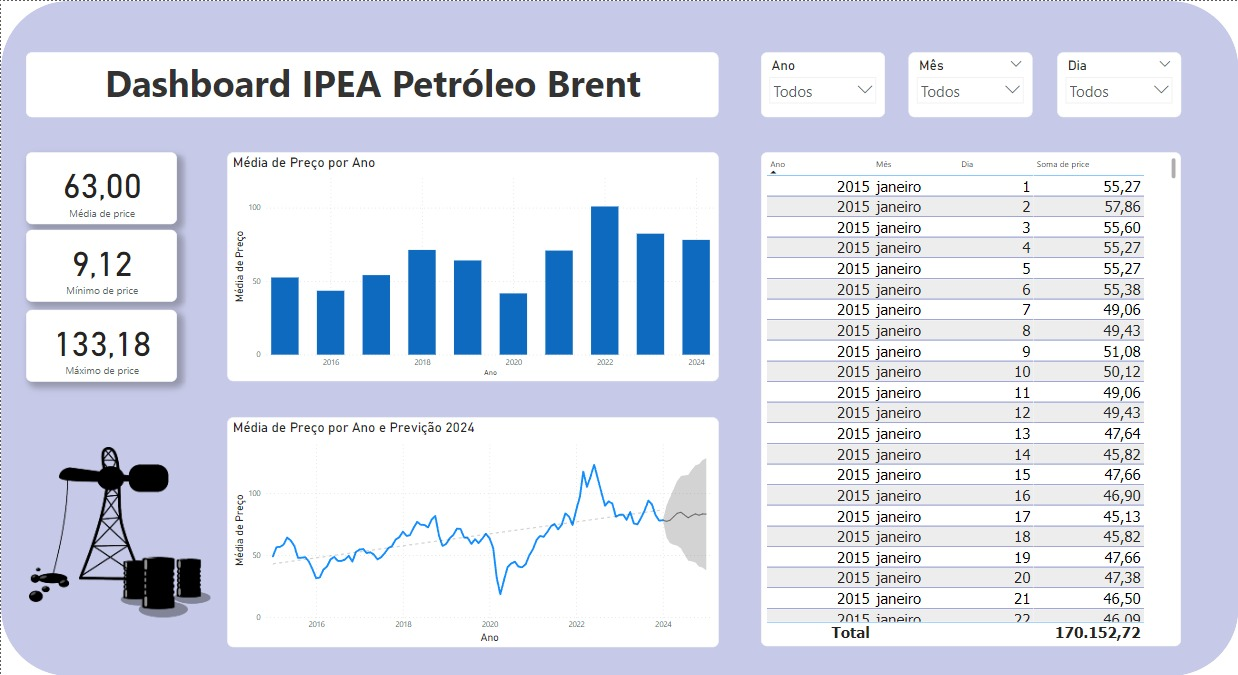

The dashboard page shown, as its layout file describes it:
{"tool":"powerbi","page":{"name":"Página 1","canvas":[1980,1080],"ordinal":0},"visuals":[{"type":"shape","box":[0,0,1980,1080],"z":0},{"type":"card","fields":{"Values":["Avg(Planilha1.price)"]},"box":[40,241.7,241.7,115],"z":1000},{"type":"card","fields":{"Values":["Min(Planilha1.price)"]},"box":[40,366.7,241.7,115],"z":2000},{"type":"card","fields":{"Values":["Max(Planilha1.price)"]},"box":[40,493.3,241.7,115],"z":3000},{"type":"lineChart","title":"Média de Preço por Ano e Previção 2024","fields":{"Category":["Planilha1.date.Variation.Hierarquia de datas.Ano","Planilha1.date.Variation.Hierarquia de datas.Trimestre","Planilha1.date.Variation.Hierarquia de datas.Mês"],"Y":["Avg(Planilha1.price)"]},"box":[361.7,665,786.7,368.3],"z":4000},{"type":"clusteredColumnChart","title":"Média de Preço por Ano","fields":{"Category":["Planilha1.date.Variation.Hierarquia de datas.Ano","Planilha1.date.Variation.Hierarquia de datas.Trimestre","Planilha1.date.Variation.Hierarquia de datas.Mês","Planilha1.date.Variation.Hierarquia de datas.Dia"],"Y":["Avg(Planilha1.price)"]},"box":[361.7,241.7,786.7,366.7],"z":5000},{"type":"slicer","fields":{"Values":["Planilha1.date.Variation.Hierarquia de datas.Ano"]},"box":[1216,82,198,104],"z":6000},{"type":"tableEx","fields":{"Values":["Planilha1.date.Variation.Hierarquia de datas.Ano","Planilha1.date.Variation.Hierarquia de datas.Mês","Planilha1.date.Variation.Hierarquia de datas.Dia","Sum(Planilha1.price)"]},"box":[1216,242,672,790],"z":7000},{"type":"slicer","fields":{"Values":["Planilha1.date.Variation.Hierarquia de datas.Mês"]},"box":[1452,82,198,104],"z":8000},{"type":"slicer","fields":{"Values":["Planilha1.date.Variation.Hierarquia de datas.Dia"]},"box":[1690,82,198,104],"z":9000},{"type":"textbox","box":[40,82,1108,104],"z":9002},{"type":"image","box":[40,700,300,300],"z":9003}]}

Visuals, with their boxes in screenshot pixels (x1, y1, x2, y2), scaled from the page's 1980x1080 canvas onto the 1238x675 screenshot:
shape: (0,0,1237,674)
card - Avg(Planilha1.price): (25,151,176,223)
card - Min(Planilha1.price): (25,229,176,301)
card - Max(Planilha1.price): (25,308,176,380)
"Média de Preço por Ano e Previção 2024" lineChart: (226,416,718,646)
"Média de Preço por Ano" clusteredColumnChart: (226,151,718,380)
slicer - Planilha1.date.Variation.Hierarquia de datas.Ano: (760,51,884,116)
tableEx - Planilha1.date.Variation.Hierarquia de datas.Ano x Planilha1.date.Variation.Hierarquia de datas.Mês: (760,151,1180,645)
slicer - Planilha1.date.Variation.Hierarquia de datas.Mês: (908,51,1032,116)
slicer - Planilha1.date.Variation.Hierarquia de datas.Dia: (1057,51,1180,116)
textbox: (25,51,718,116)
image: (25,438,213,625)
